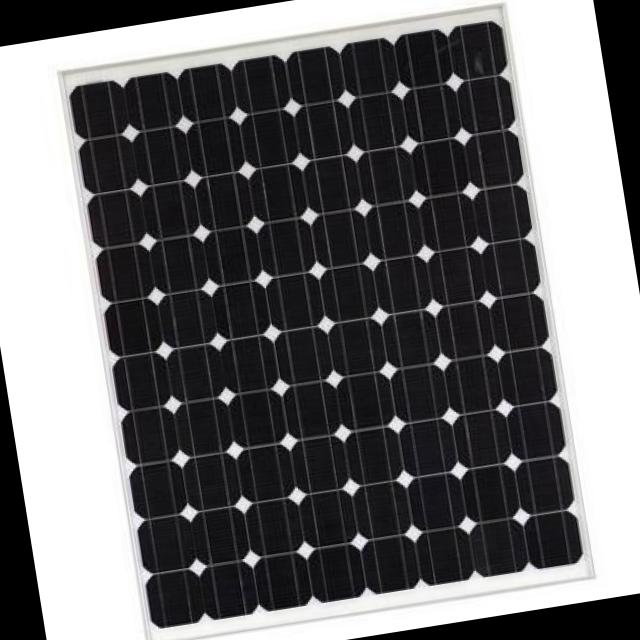no faulty: (71, 20, 584, 630)
